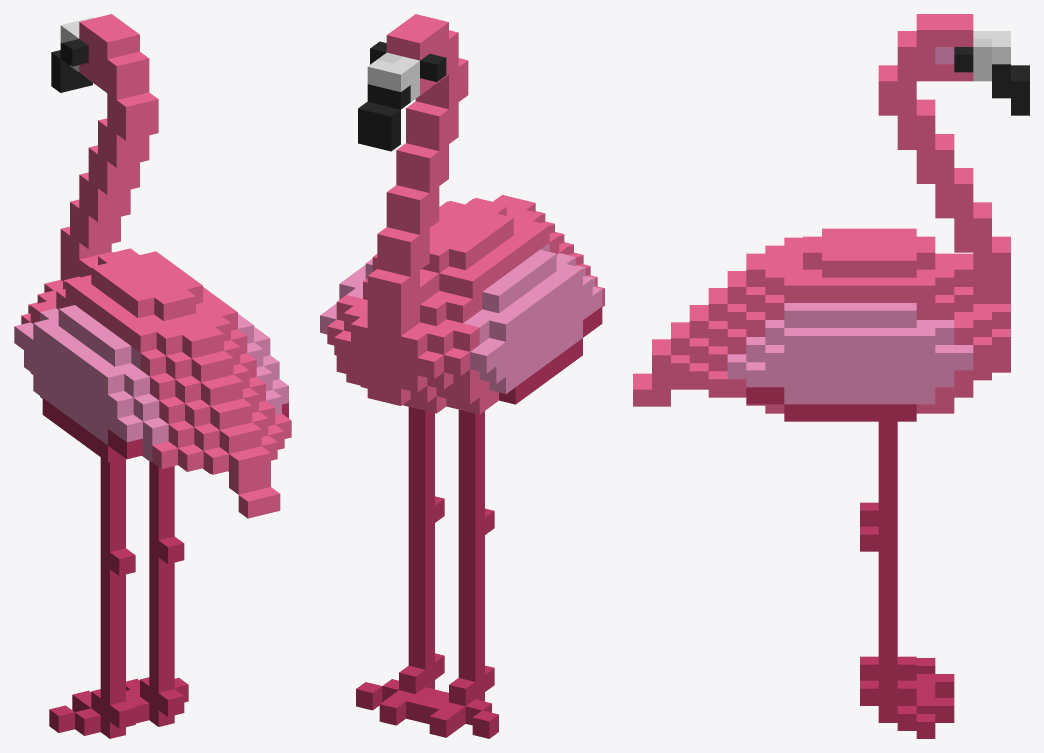
Rendered from Flamingo.glb.
3 renders of one model, left to right at view 1: azimuth 30°, elevation 25°; view 2: azimuth 150°, elevation 25°; view 3: azimuth 270°, elevation 25°, orthographic. The views are drawn at different scales.
Parts seen in each view (by area): view 1: flamingo; view 2: flamingo; view 3: flamingo.
Part boxes in pixels (left/top/right/bottom): flamingo: left=14, top=14, right=291, bottom=738; flamingo: left=320, top=14, right=604, bottom=738; flamingo: left=633, top=14, right=1029, bottom=738.
Size of the model in its own units: 10 by 40 by 21.
Materials: 1 (1 with a texture image).
